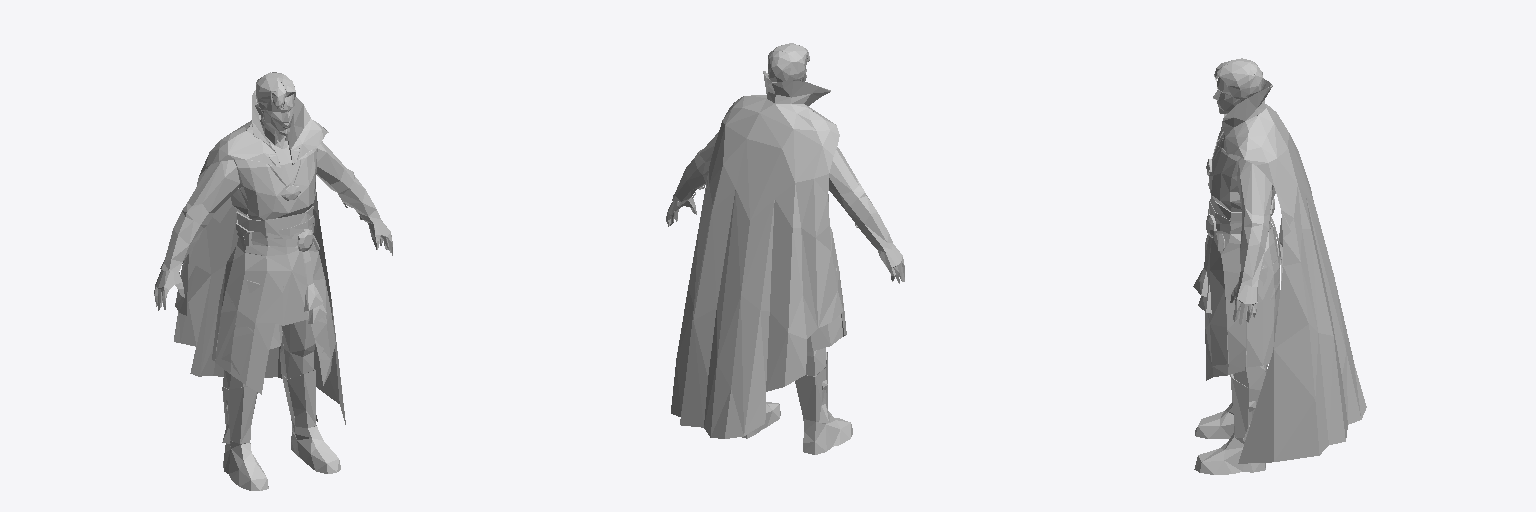
File: DocStrangeLowPoly.obj
3 renders of one model, left to right at view 1: azimuth 30°, elevation 25°; view 2: azimuth 150°, elevation 25°; view 3: azimuth 270°, elevation 25°, orthographic.
Parts seen in each view (by area): view 1: M-FF_iOS_HERO_Stephen_Strange_Doctor_Strange_M.C.U; view 2: M-FF_iOS_HERO_Stephen_Strange_Doctor_Strange_M.C.U; view 3: M-FF_iOS_HERO_Stephen_Strange_Doctor_Strange_M.C.U.
Part boxes in pixels (bbox=[...]): M-FF_iOS_HERO_Stephen_Strange_Doctor_Strange_M.C.U: bbox=[154, 72, 392, 490]; M-FF_iOS_HERO_Stephen_Strange_Doctor_Strange_M.C.U: bbox=[666, 43, 904, 454]; M-FF_iOS_HERO_Stephen_Strange_Doctor_Strange_M.C.U: bbox=[1193, 58, 1366, 474].
Bounding box in the file's own units: 1.25 × 1.99 × 0.8056.